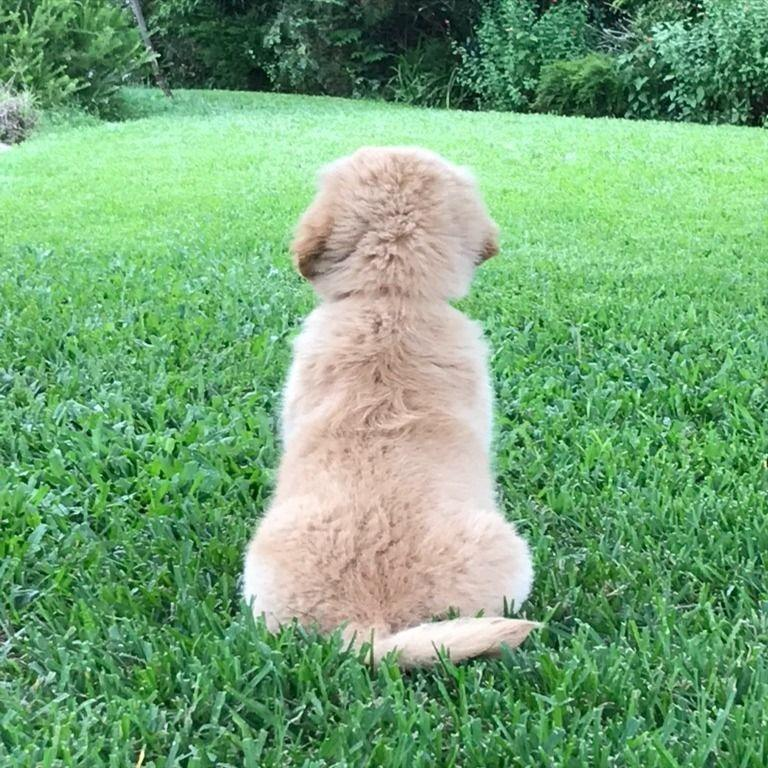puppy-dog: (243, 143, 541, 671)
